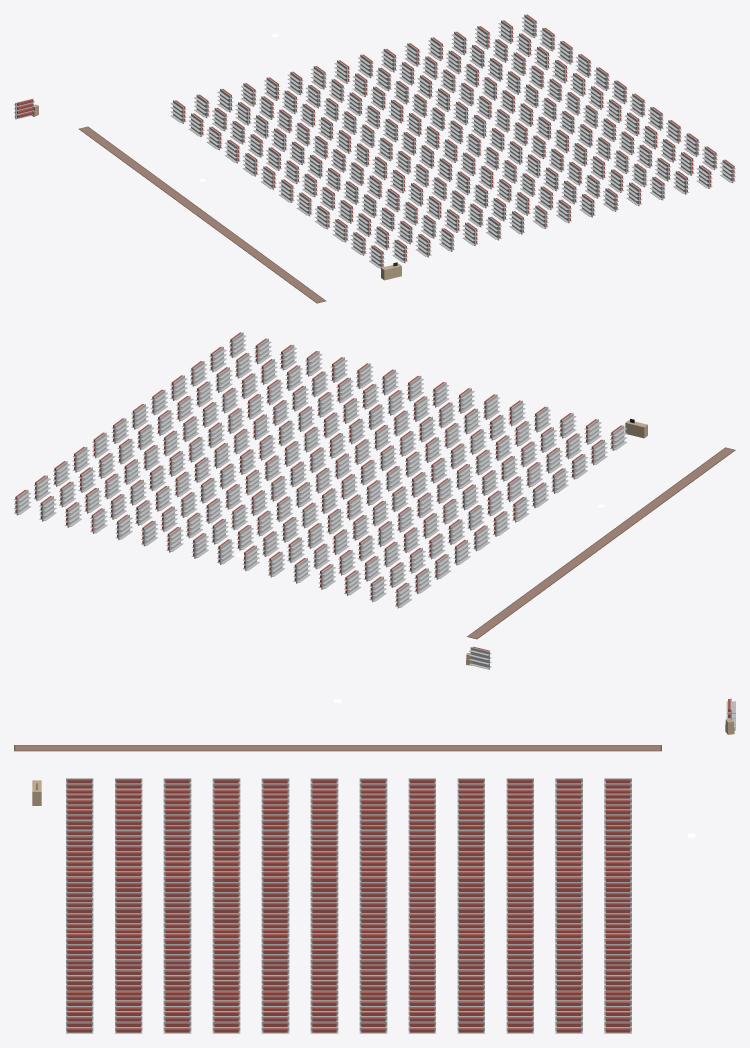
File: fine-s0.glb
3 renders of one model, top to bottom at view 1: azimuth 30°, elevation 25°; view 2: azimuth 150°, elevation 25°; view 3: azimuth 270°, elevation 25°, orthographic. The views are drawn at different scales.
Visible parts, largest first — view 1: soft-s0; view 2: soft-s0; view 3: soft-s0, shelf.185, shelf.186, shelf.187, shelf.188, shelf.189, shelf.180, shelf.181, shelf.182, shelf.183, shelf.184, shelf.190 (+1 smaller).
Boxes of the visible parts, <box> form: soft-s0: <box>78,126,326,303</box>; soft-s0: <box>467,447,735,639</box>; soft-s0: <box>14,745,661,751</box>; shelf.185: <box>359,1011,387,1033</box>; shelf.186: <box>310,1011,338,1033</box>; shelf.187: <box>261,1011,289,1033</box>; shelf.188: <box>212,1011,240,1033</box>; shelf.189: <box>163,1011,191,1033</box>; shelf.180: <box>604,1011,631,1033</box>; shelf.181: <box>555,1011,582,1033</box>; shelf.182: <box>506,1011,533,1033</box>; shelf.183: <box>457,1011,484,1033</box>; shelf.184: <box>408,1011,435,1033</box>; shelf.190: <box>115,1011,142,1033</box>.
Size of the model in its own units: 48.73 by 3.42 by 47.19.
